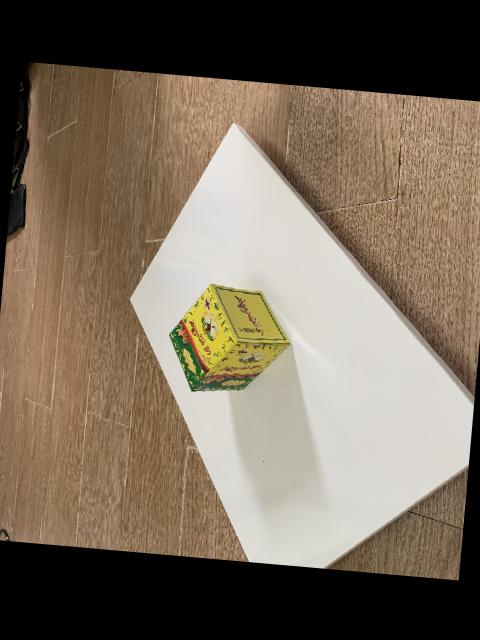luong_kho: (170, 283, 290, 391)
